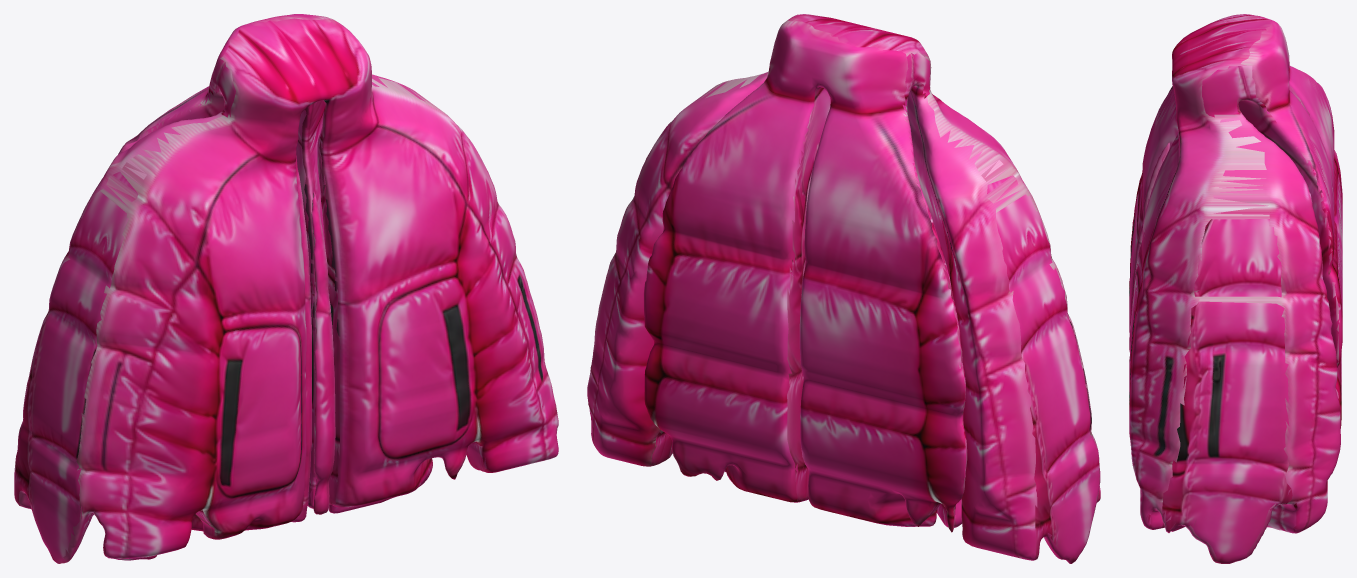
Rendered from jacket_pink_test.glb.
3 renders of one model, left to right at view 1: azimuth 30°, elevation 25°; view 2: azimuth 150°, elevation 25°; view 3: azimuth 270°, elevation 25°, orthographic. The views are drawn at different scales.
Visible parts, largest first — view 1: Pink_Jacket; view 2: Pink_Jacket; view 3: Pink_Jacket.
Boxes of the visible parts, x1=… form: Pink_Jacket: x1=14, y1=14, x2=558, y2=563; Pink_Jacket: x1=587, y1=14, x2=1100, y2=563; Pink_Jacket: x1=1129, y1=14, x2=1342, y2=563.
Size of the model in its own units: 1.87 by 1.85 by 0.8249.
4 materials, 4 textured.
